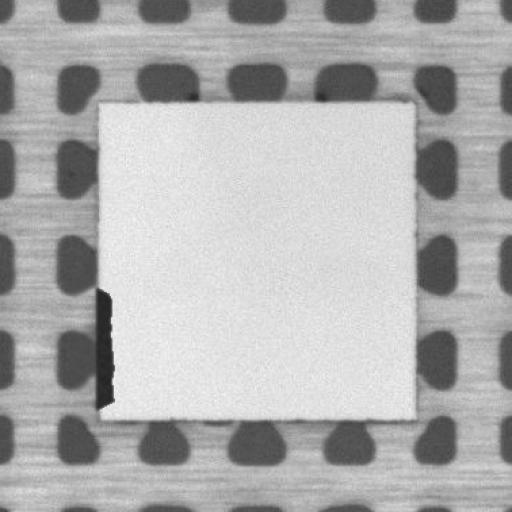DIE_BROKEN: (91, 279, 116, 416)
